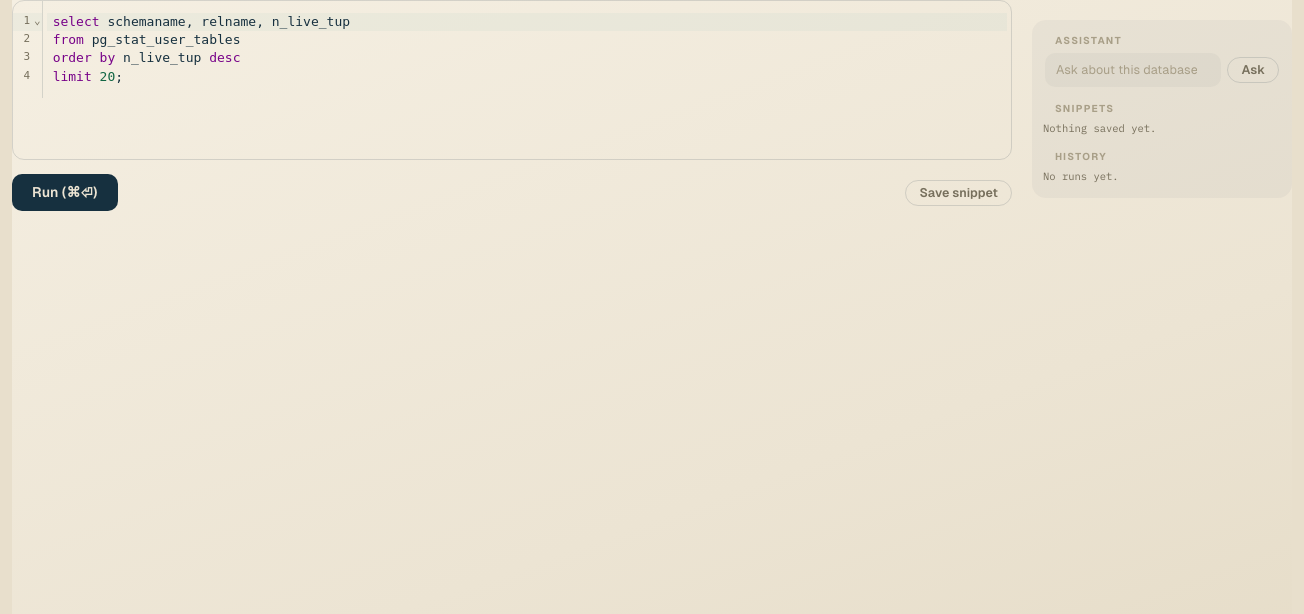
Test case: SqlConsole › write handshake: 409 shows Run write; confirming re-posts with confirmWrite
Click the button "Run (⌘⏎)".
click(65, 192)  # box [12,174,118,211]
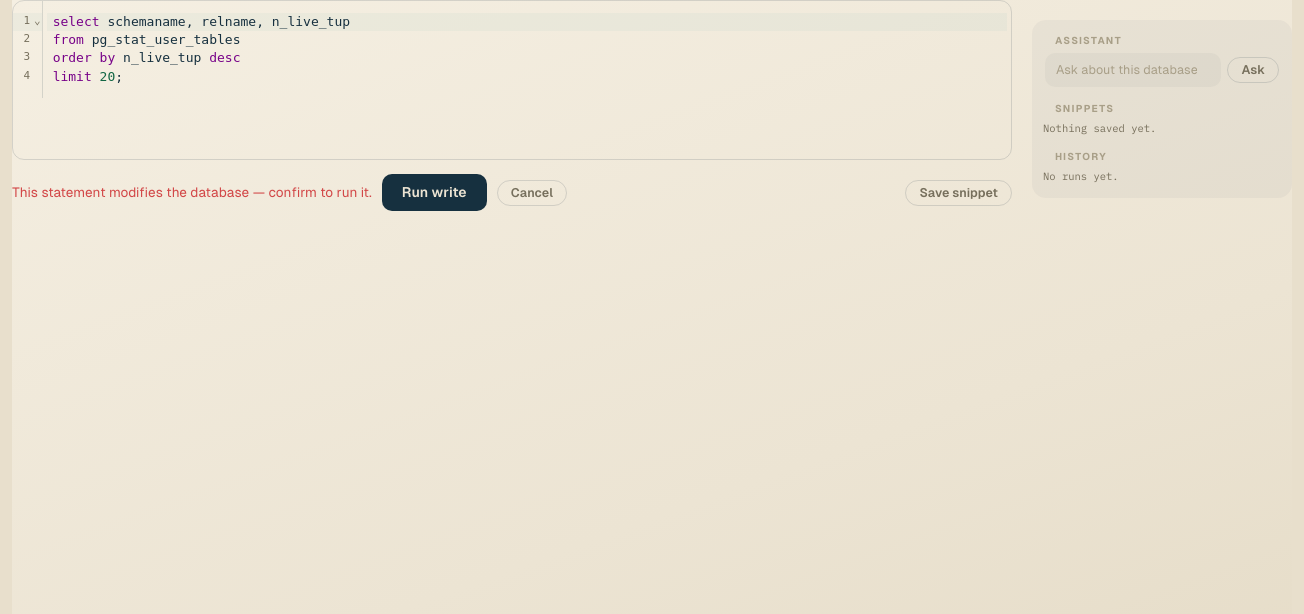
Expected: the message shows "modifies the database", [12,184,372,200]
Click the button "Run write".
click(434, 192)  # box [382,174,487,211]
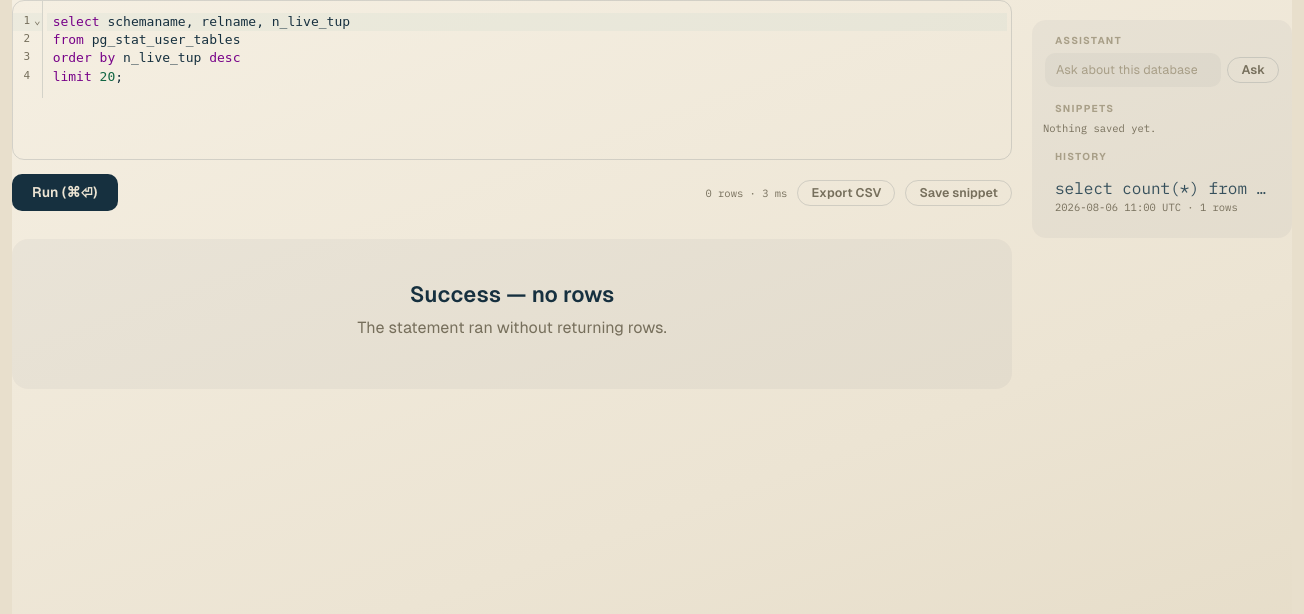
Expected: the heading "Success — no rows" is shown, [410,282,614,307]
